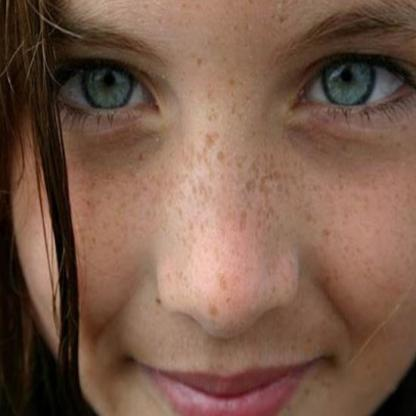darkspot: (301, 162, 415, 318), (186, 125, 288, 292), (67, 167, 162, 264), (185, 49, 251, 113)
